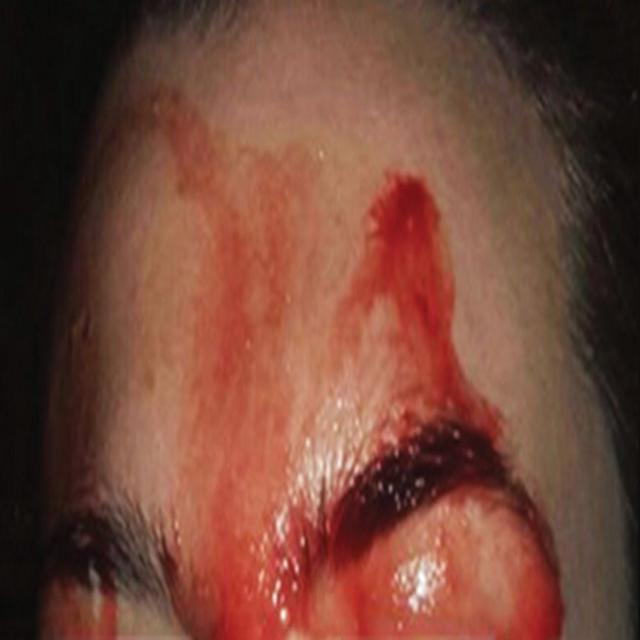flood: (361, 164, 460, 406)
